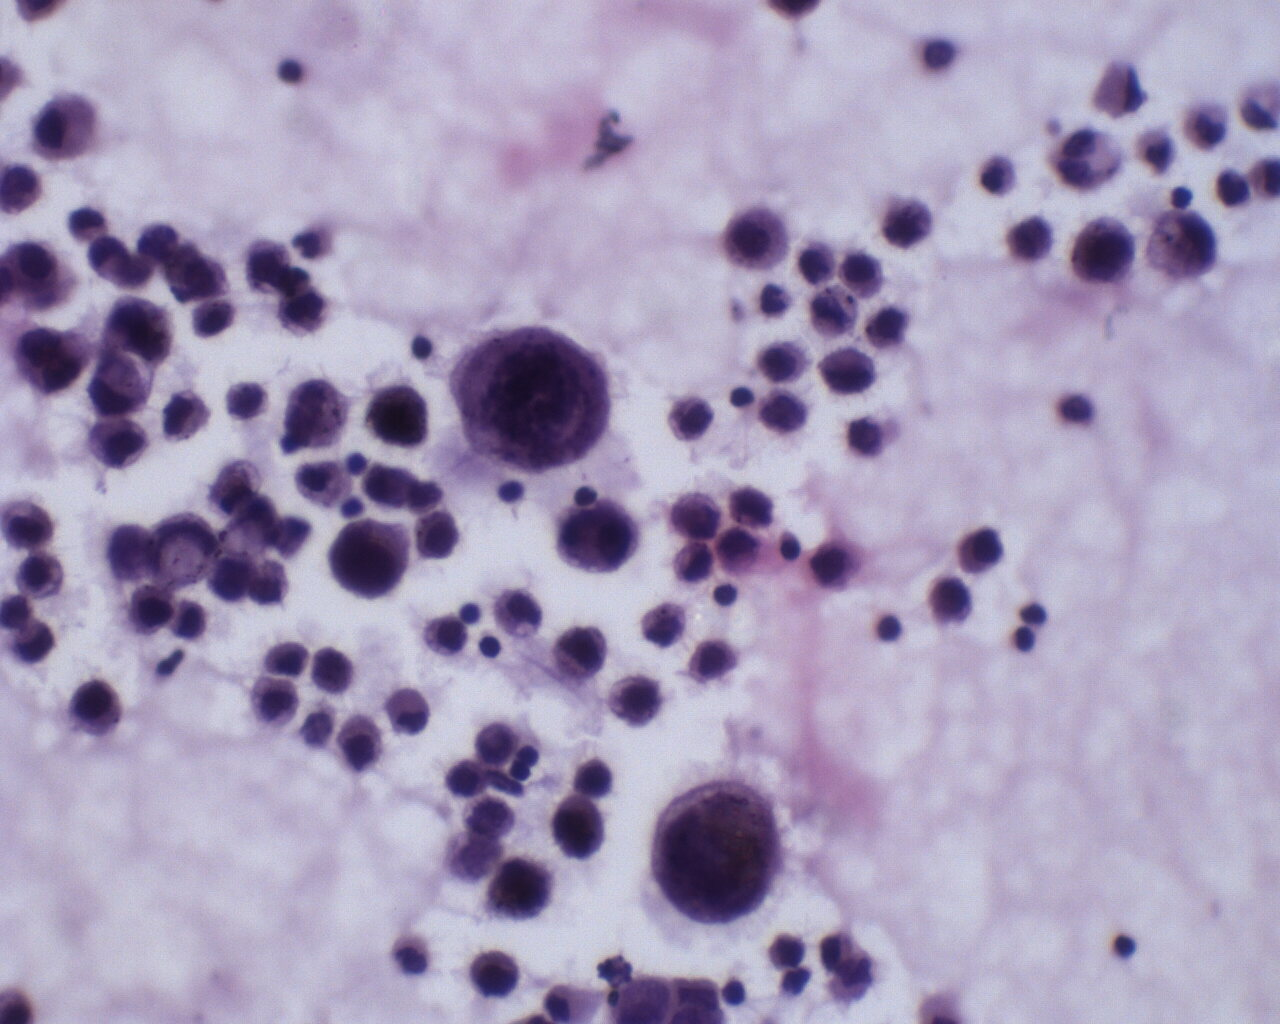ab: (445, 319, 614, 474), (644, 778, 796, 927), (327, 519, 415, 603), (555, 503, 639, 574), (280, 377, 353, 452), (1071, 215, 1144, 289), (489, 853, 560, 924), (365, 380, 434, 449), (79, 415, 152, 476), (546, 798, 608, 863), (816, 348, 884, 400), (552, 622, 611, 681), (465, 947, 520, 1004), (335, 713, 386, 775), (160, 391, 214, 446), (668, 487, 725, 539), (757, 338, 810, 389)
lymph: (1106, 925, 1146, 965), (871, 610, 907, 649), (476, 632, 506, 662)
meso: (30, 92, 111, 165), (720, 204, 795, 277), (67, 675, 129, 742), (836, 248, 888, 302), (14, 551, 65, 601)
